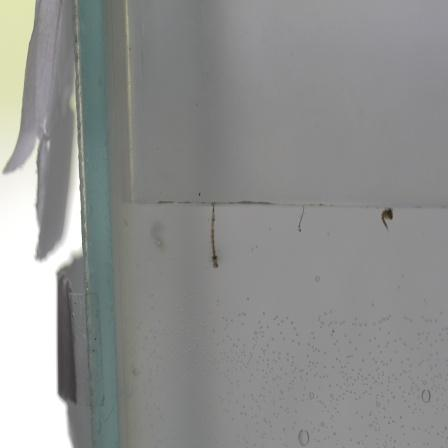Jentik-Nyamuk: (205, 202, 223, 272), (292, 204, 311, 237), (375, 207, 398, 231)
